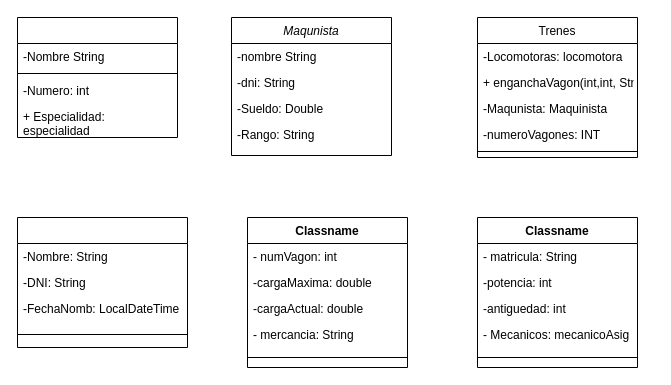
This 671x385 diagram has some shape labels left out. The box of each missing label's shape, as (x1, y1, x2, y2) in pixels:
JefeEstacion: (16, 216, 188, 348)
Mecanicos: (16, 16, 178, 138)
